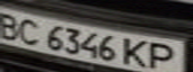3: (60, 26, 84, 56)
4: (78, 29, 100, 60)
6: (39, 23, 66, 53), (96, 34, 121, 63)
B: (0, 10, 24, 39)
C: (12, 17, 45, 46)
K: (121, 37, 151, 70)
P: (145, 39, 184, 71)
